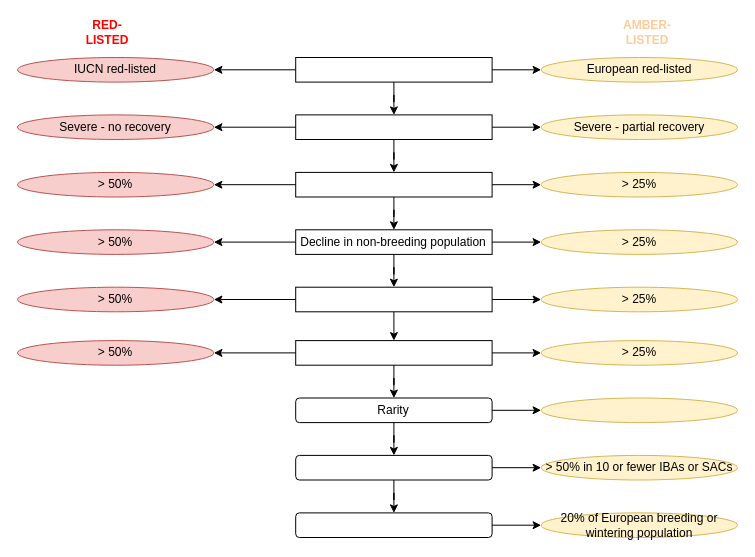
This 755x557 diagram has some shape labels left out. The box of each missing label's shape, as (x1, y1, x2, y2) in pixels:
< 300 pairs/ 900 individuals: (540, 397, 738, 423)
Decline: (295, 114, 492, 140)
Decline in breeding population: (295, 171, 492, 197)
Decline in breeding range: (295, 286, 492, 312)
Decline in non-breeding range: (295, 340, 492, 365)
International importance: (295, 512, 492, 538)
International status: (295, 56, 492, 82)
Localisation: (295, 454, 492, 480)
